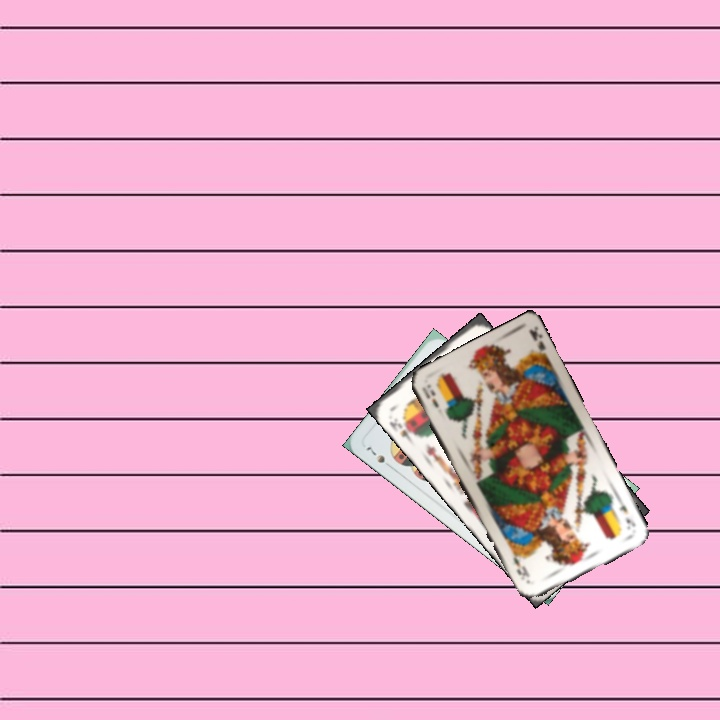EK: (613, 495, 638, 532), (418, 380, 441, 411)
S7: (362, 440, 395, 471)
SK: (385, 414, 419, 445)
